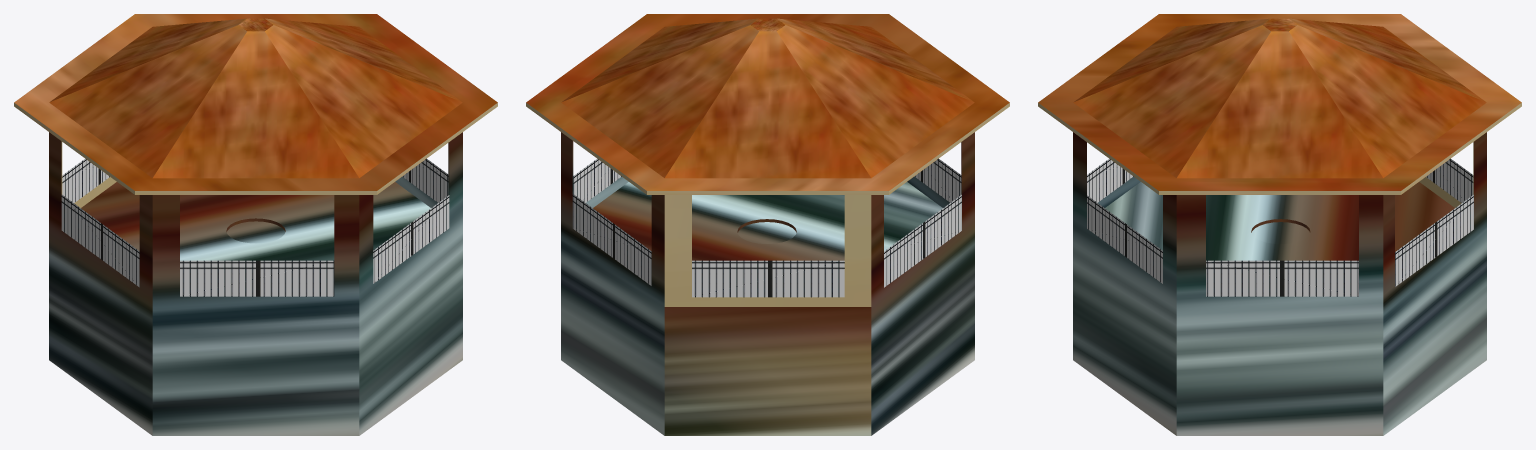
The model's file is KioskoDOS.gltf.
The picture shows the model from 3 angles, left to right: view 1: azimuth 30°, elevation 25°; view 2: azimuth 150°, elevation 25°; view 3: azimuth 270°, elevation 25°; orthographic projection.
Size of the model in its own units: 6.5 by 5.74 by 7.5.
Materials: 5 (5 with a texture image).
